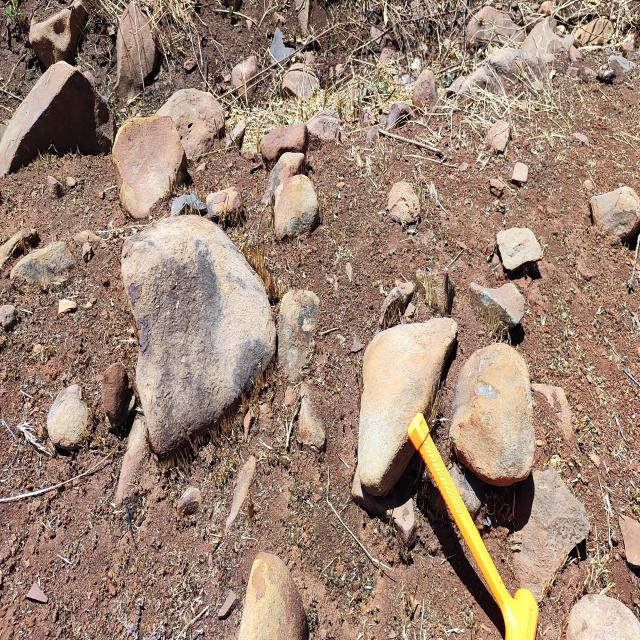Orange_hammer: (406, 411, 539, 638)
